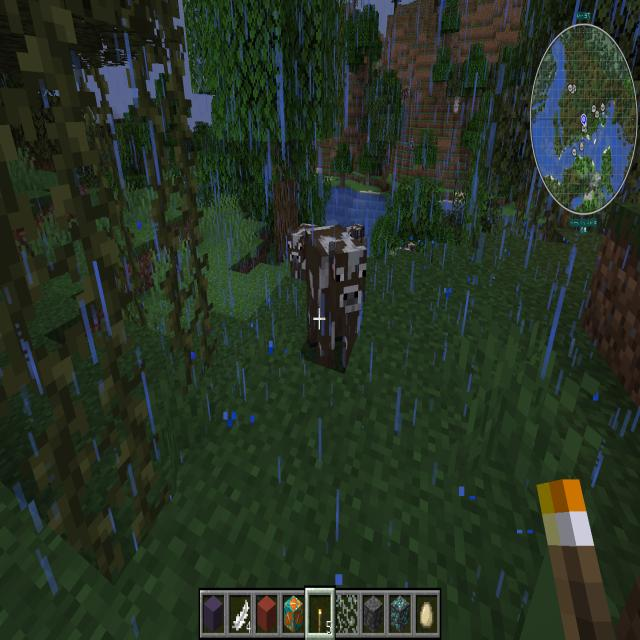cow: (301, 220, 374, 390), (282, 217, 324, 290), (345, 214, 369, 244), (394, 237, 418, 258)
